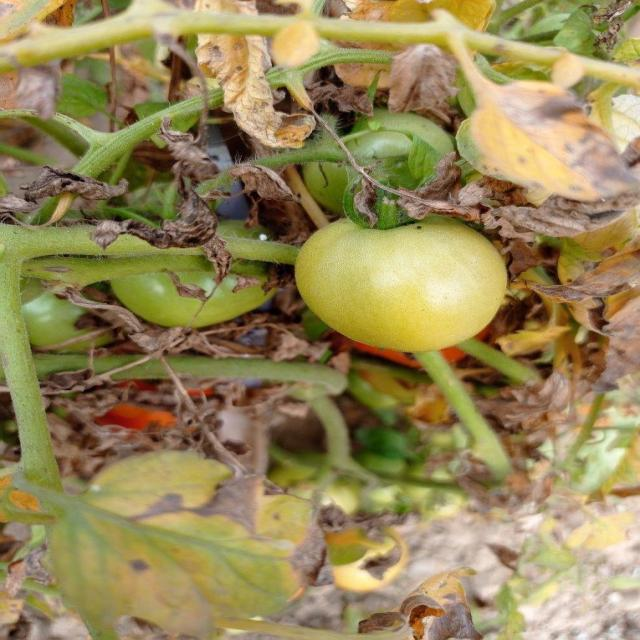Unripe: (291, 208, 511, 353)
